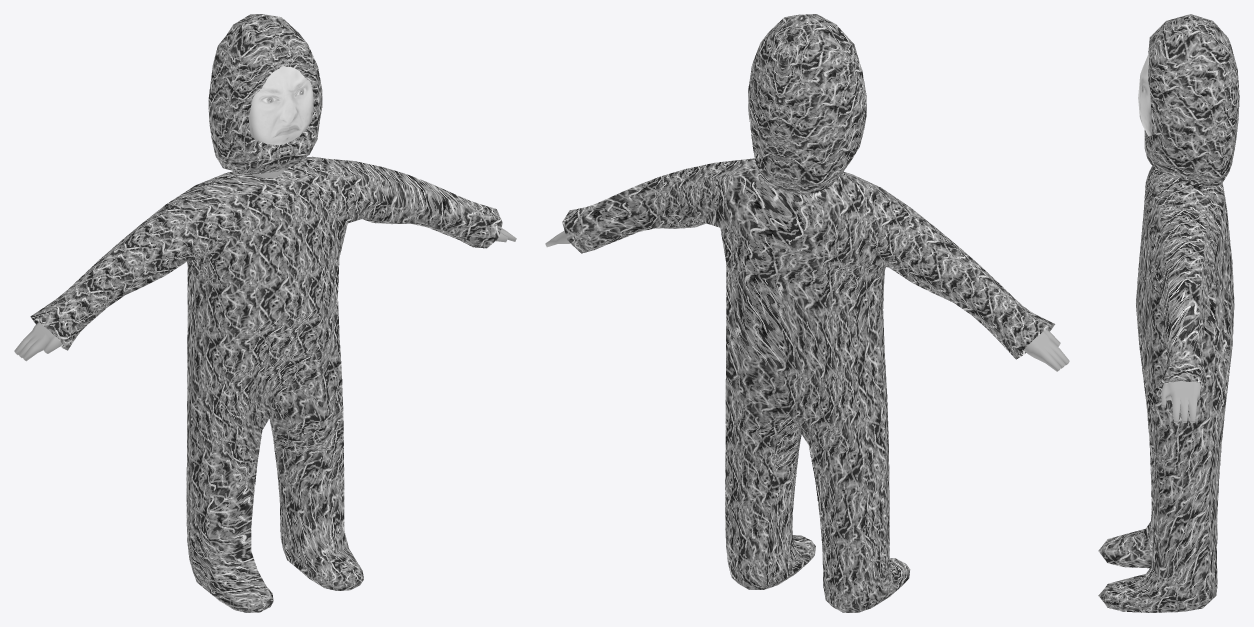
File: bigfoot-model.glb
3 renders of one model, left to right at view 1: azimuth 30°, elevation 25°; view 2: azimuth 150°, elevation 25°; view 3: azimuth 270°, elevation 25°, orthographic. The views are drawn at different scales.
Parts seen in each view (by area): view 1: bigfoot-base; view 2: bigfoot-base; view 3: bigfoot-base.
Part boxes in pixels (bbox=[...]): bigfoot-base: bbox=[14, 14, 516, 612]; bigfoot-base: bbox=[545, 14, 1069, 612]; bigfoot-base: bbox=[1098, 14, 1239, 612].
Size of the model in its own units: 6.3 by 6.85 by 1.54.
2 materials, 2 textured.
